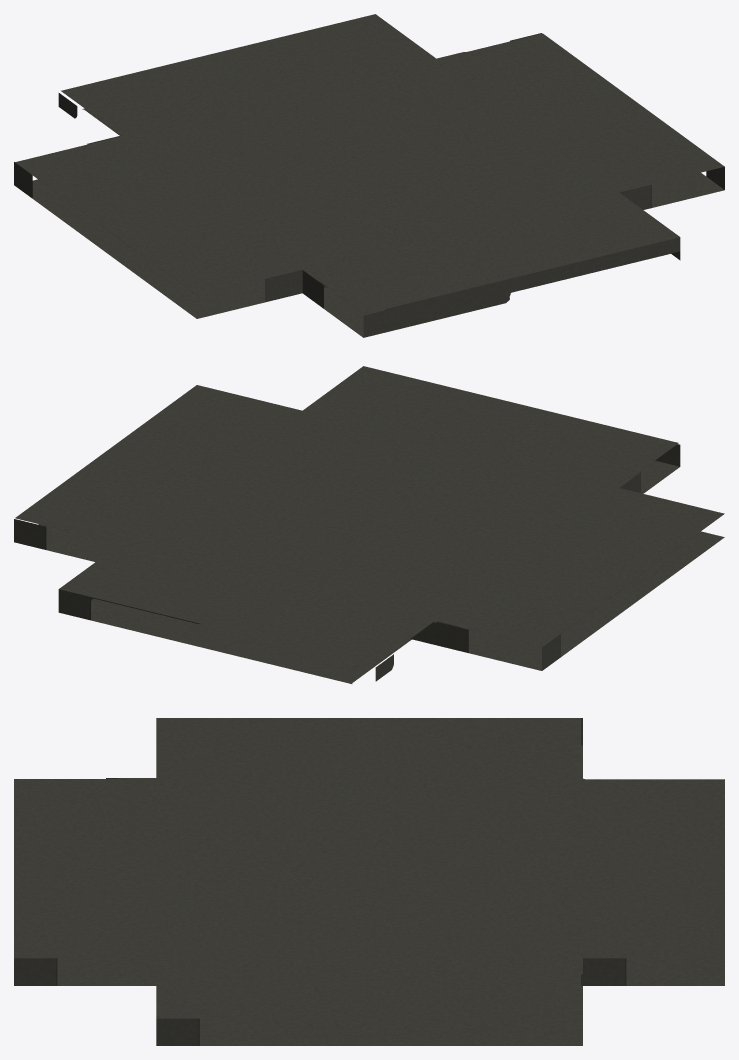
Rendered from RoadCross.fbx.
The picture shows the model from 3 angles, top to bottom: view 1: azimuth 30°, elevation 25°; view 2: azimuth 150°, elevation 25°; view 3: azimuth 270°, elevation 25°; orthographic projection. The views are drawn at different scales.
Parts seen in each view (by area): view 1: RoadIntersect; view 2: RoadIntersect; view 3: RoadIntersect.
Boxes of the visible parts, box(x1,y1,x2,y2) form: RoadIntersect: box(14, 14, 724, 337); RoadIntersect: box(14, 366, 724, 683); RoadIntersect: box(14, 718, 724, 1045).
Size of the model in its own units: 2000 by 85 by 2000.
